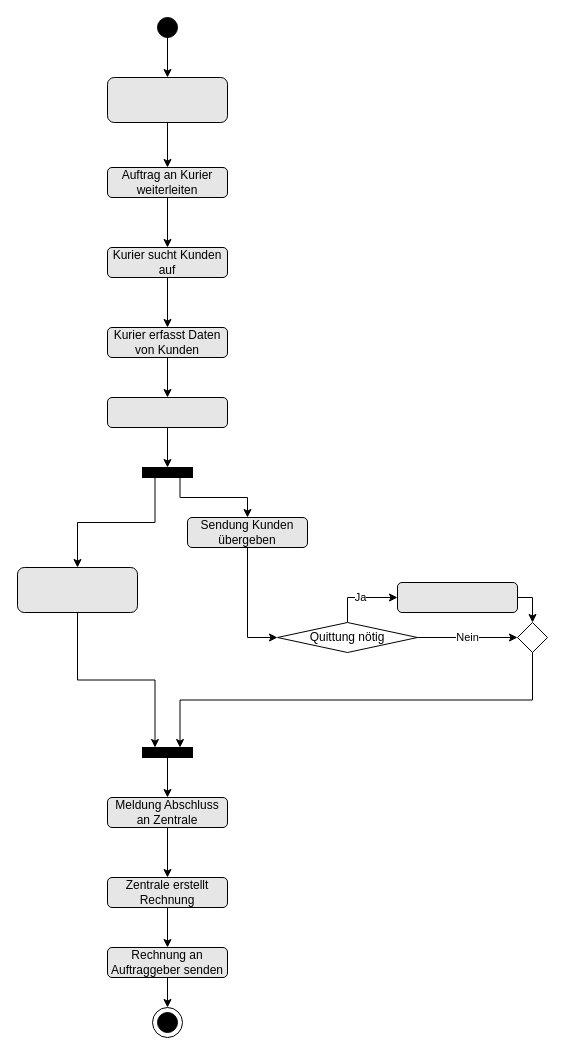
The diagram is 565 pixels wide and 1055 high, and some of its shapes have lost their labels. The shapes that lost their labels are listed below. From the top down, each one's centre as x and y in pixels, then its label:
the point at 167,99: Zentrale erfasst Daten von Auftraggeber
the point at 167,412: Kurier sendet erfasste Daten an Zentrale
the point at 77,589: Zentrale gleicht Daten von Kurier mit vorhandenen ab
the point at 457,597: Sendung von Kunden quittieren lassen
